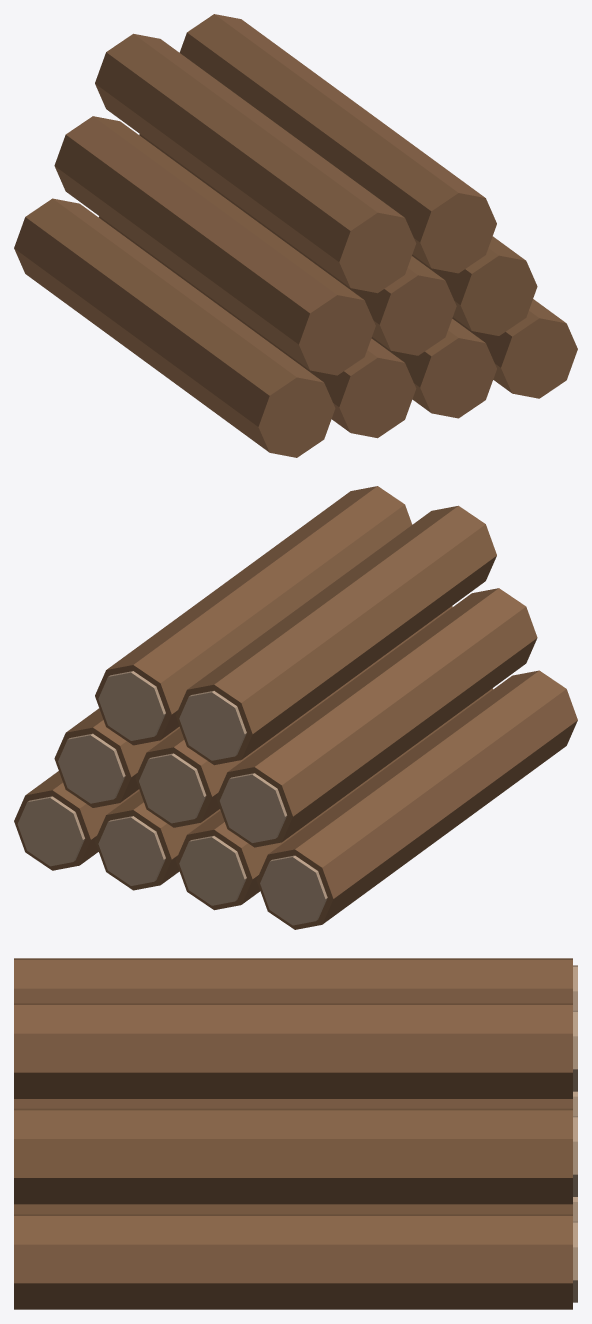
The model's file is log-pile.glb.
3 views of the same model, one above another, from view 1: azimuth 30°, elevation 25°; view 2: azimuth 150°, elevation 25°; view 3: azimuth 270°, elevation 25° (orthographic). The views are drawn at different scales.
Visible parts, largest first — view 1: log-pile; view 2: log-pile; view 3: log-pile.
Part boxes in pixels (x1,y1,x2,y2): log-pile: (14, 14, 577, 457); log-pile: (14, 486, 577, 929); log-pile: (14, 958, 577, 1309).
Bounding box in the file's own units: 1.66 × 1.12 × 2.22.
